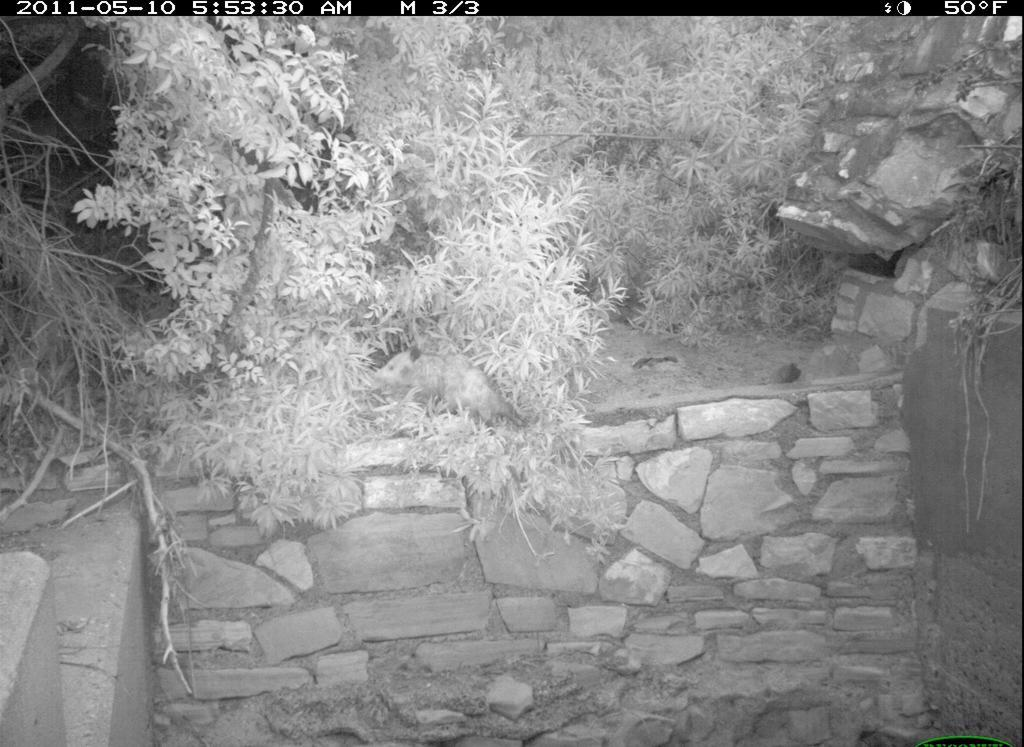opossum: (367, 336, 543, 438)
